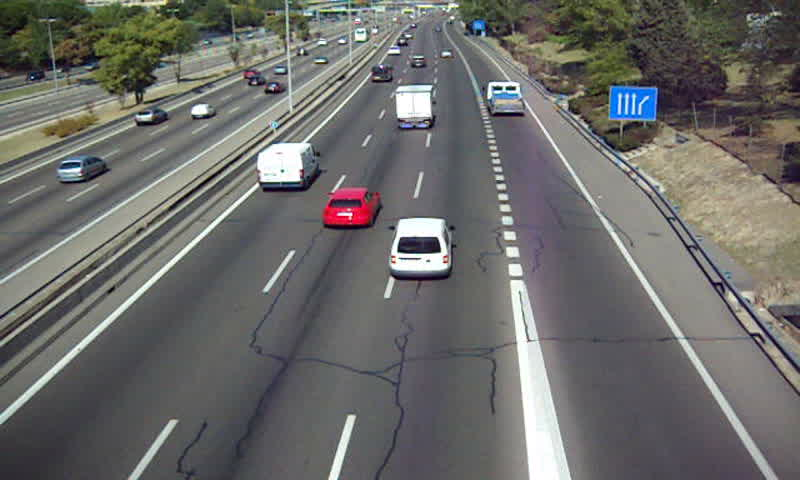car: (388, 217, 456, 279), (324, 189, 381, 228), (409, 54, 427, 70)
small-truck: (394, 84, 435, 127), (486, 80, 524, 116)
van: (257, 143, 319, 192), (369, 64, 393, 85)
